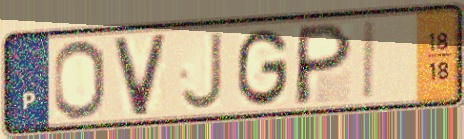G: (234, 25, 291, 109)
I: (360, 18, 379, 103)
J: (178, 28, 226, 113)
O: (51, 37, 109, 122)
P: (290, 19, 356, 108)
V: (111, 31, 170, 120)
